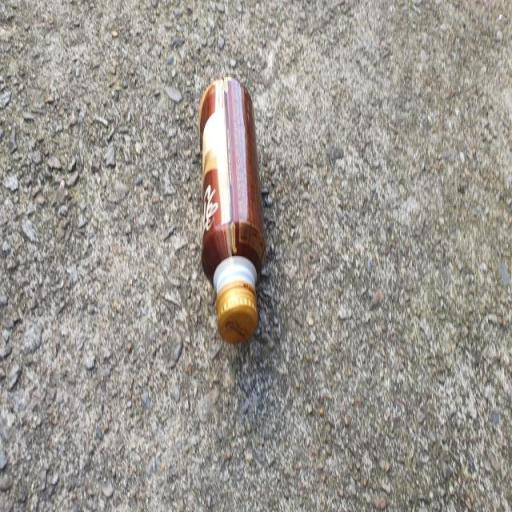metal: (194, 76, 284, 366)
